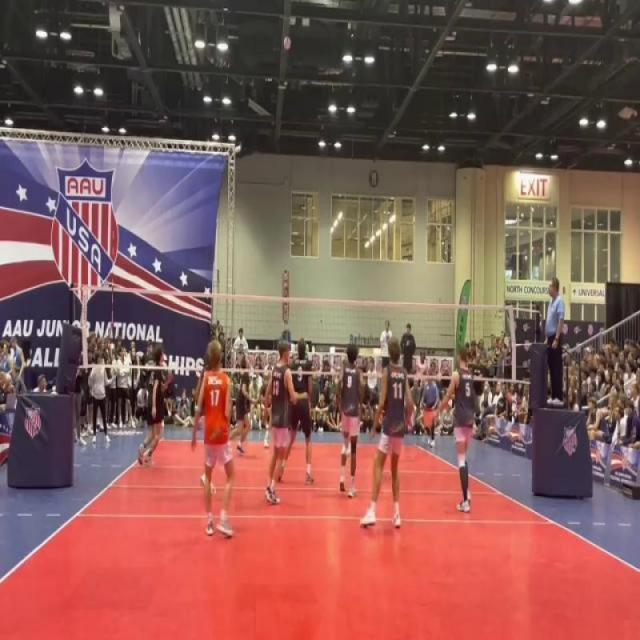volleyball: (283, 35, 291, 51)
